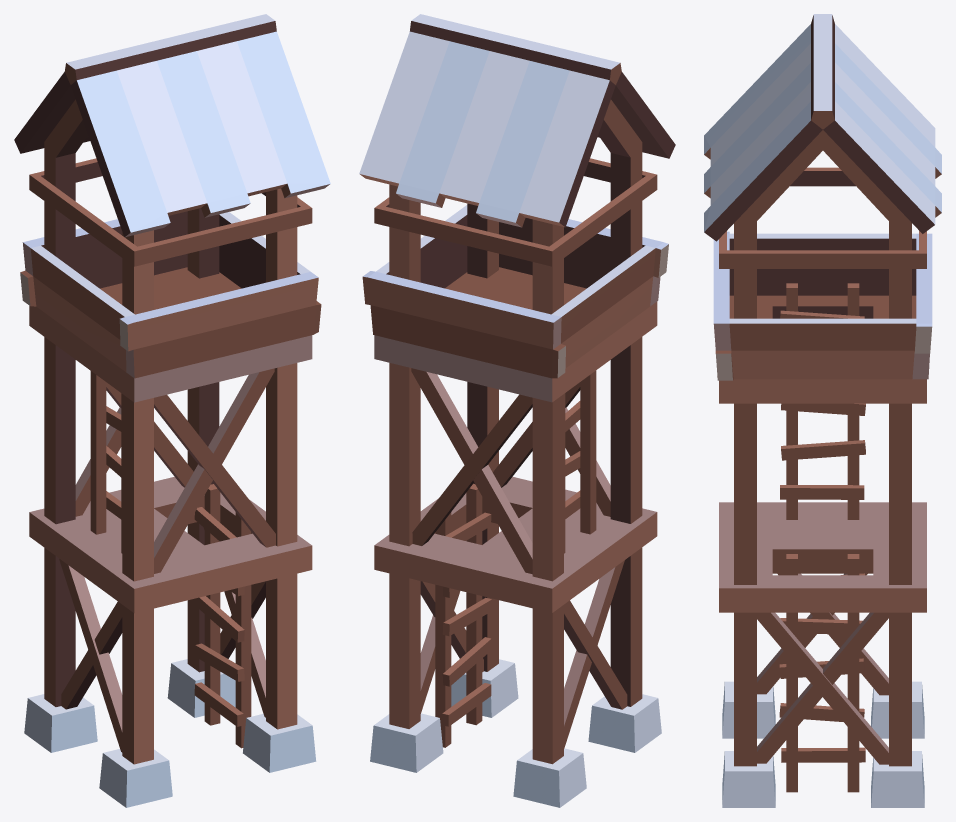
The model's file is snow_tower.glb.
3 renders of one model, left to right at view 1: azimuth 30°, elevation 25°; view 2: azimuth 150°, elevation 25°; view 3: azimuth 270°, elevation 25°, orthographic.
Parts seen in each view (by area): view 1: TB_Bd_WatchTower; view 2: TB_Bd_WatchTower; view 3: TB_Bd_WatchTower.
Boxes of the visible parts, box(x1,y1,x2,y2) form: TB_Bd_WatchTower: box(14, 14, 330, 807); TB_Bd_WatchTower: box(359, 14, 675, 807); TB_Bd_WatchTower: box(704, 14, 941, 807).
Size of the model in its own units: 2.61 by 8.8 by 2.71.
Materials: 1 (1 with a texture image).
